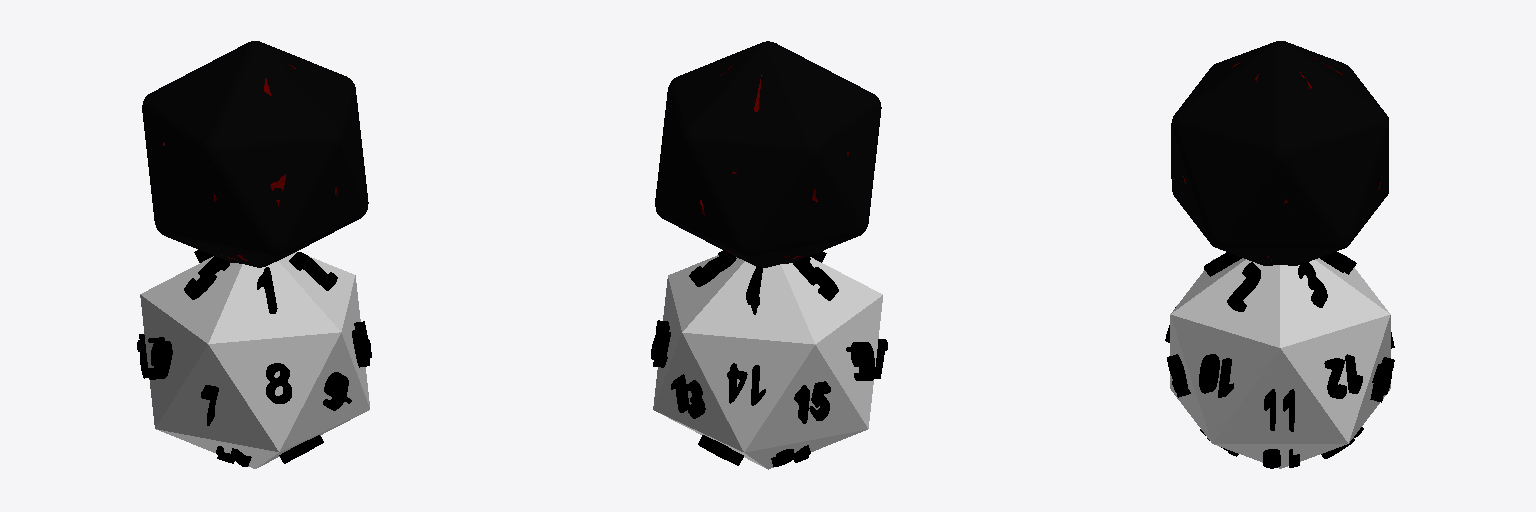
The model's file is dado20Caras1.obj.
3 views of the same model, side by side, from view 1: azimuth 30°, elevation 25°; view 2: azimuth 150°, elevation 25°; view 3: azimuth 270°, elevation 25° (orthographic).
Visible parts, largest first — view 1: Icosphere.001_Icosphere.002, Icosphere, 5_Curve.169, 6_Cylinder, 8_Curve.172, 2_Curve.166, 9_Curve.173, 10_Curve.174; view 2: Icosphere.001_Icosphere.002, Icosphere, 15_Curve.002, 13_Curve.180, 6_Cylinder, 5_Curve.169, 14_Curve.182, 3_Curve.167, 12_Curve.178, 20_Curve.194; view 3: Icosphere.001_Icosphere.002, Icosphere, 10_Curve.174, 12_Curve.178, 2_Curve.166, 13_Curve.180, 11_Curve.176, 3_Curve.167, 9_Curve.173.
Boxes of the visible parts, box(x1,y1,x2,y2) form: Icosphere.001_Icosphere.002: box(142, 41, 368, 267); Icosphere: box(140, 252, 369, 468); 5_Curve.169: box(184, 256, 229, 299); 6_Cylinder: box(148, 337, 172, 379); 8_Curve.172: box(266, 363, 291, 403); 2_Curve.166: box(289, 252, 337, 290); 9_Curve.173: box(323, 372, 351, 410); 10_Curve.174: box(352, 321, 371, 367); Icosphere.001_Icosphere.002: box(655, 41, 881, 267); Icosphere: box(653, 255, 882, 469); 15_Curve.002: box(794, 381, 830, 423); 13_Curve.180: box(671, 374, 705, 418); 6_Cylinder: box(846, 342, 875, 380); 5_Curve.169: box(793, 256, 838, 300); 14_Curve.182: box(727, 363, 765, 405); 3_Curve.167: box(689, 250, 736, 286); 12_Curve.178: box(651, 320, 670, 367); 20_Curve.194: box(698, 435, 743, 465); Icosphere.001_Icosphere.002: box(1171, 41, 1388, 265); Icosphere: box(1170, 258, 1390, 468); 10_Curve.174: box(1199, 354, 1233, 397); 12_Curve.178: box(1324, 354, 1362, 398); 2_Curve.166: box(1227, 262, 1260, 311); 13_Curve.180: box(1370, 357, 1394, 402); 11_Curve.176: box(1264, 389, 1294, 431); 3_Curve.167: box(1298, 262, 1327, 307); 9_Curve.173: box(1167, 354, 1190, 397).
Bounding box in the file's own units: 151 × 292 × 142.